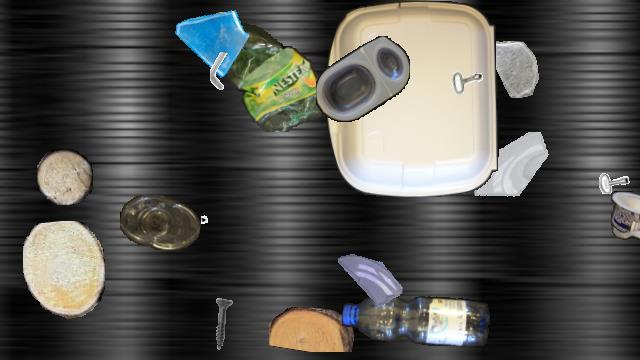glass: (472, 132, 554, 214), (171, 1, 249, 79), (338, 248, 402, 312), (484, 41, 540, 97)
metal: (433, 41, 493, 101), (194, 297, 250, 353), (589, 149, 633, 193), (200, 52, 240, 92), (201, 206, 239, 244), (634, 1, 640, 53)
plastic: (326, 1, 498, 197), (196, 12, 326, 132), (316, 36, 410, 122), (342, 292, 490, 346), (120, 195, 200, 249), (611, 191, 640, 259)
wood: (23, 221, 105, 319), (269, 307, 355, 351), (37, 149, 93, 205)
